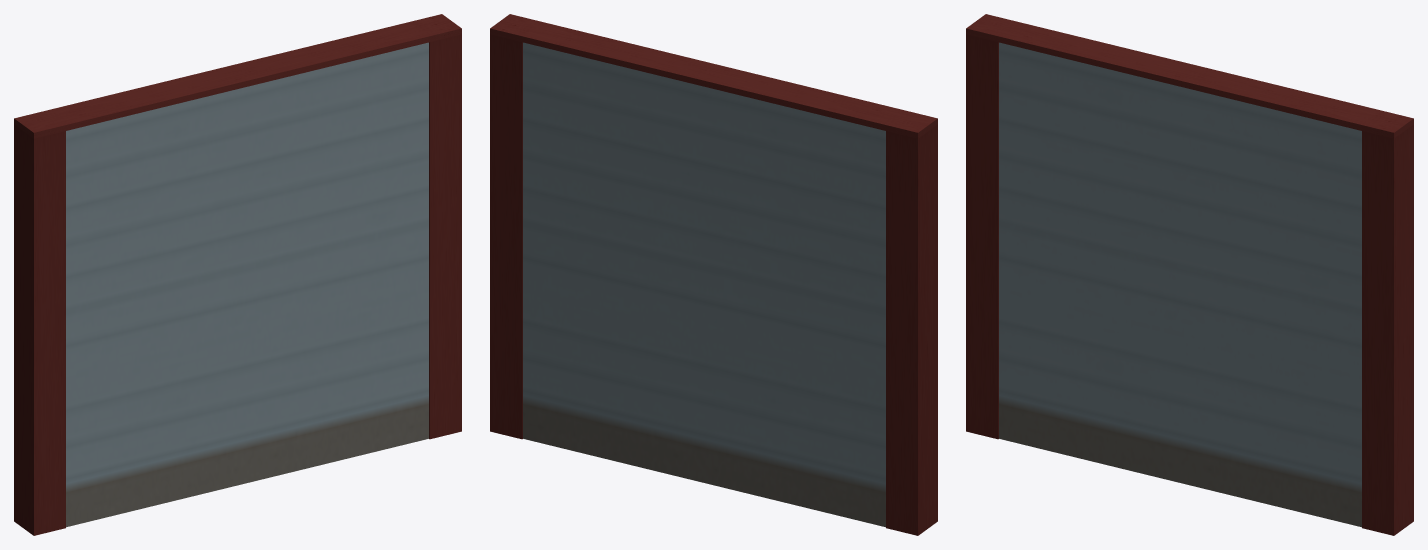
Rendered from house_02_wall_solid.glb.
3 views of the same model, side by side, from view 1: azimuth 30°, elevation 25°; view 2: azimuth 150°, elevation 25°; view 3: azimuth 330°, elevation 25° (orthographic).
Visible parts, largest first — view 1: outdoor_house_02_wall_solid; view 2: outdoor_house_02_wall_solid; view 3: outdoor_house_02_wall_solid.
Part boxes in pixels (box(x1,y1,x2,y2)): outdoor_house_02_wall_solid: box(14, 14, 461, 535); outdoor_house_02_wall_solid: box(490, 14, 937, 535); outdoor_house_02_wall_solid: box(966, 14, 1413, 535).
Size of the model in its own units: 3 by 2.7 by 0.24.
1 material, 1 textured.
